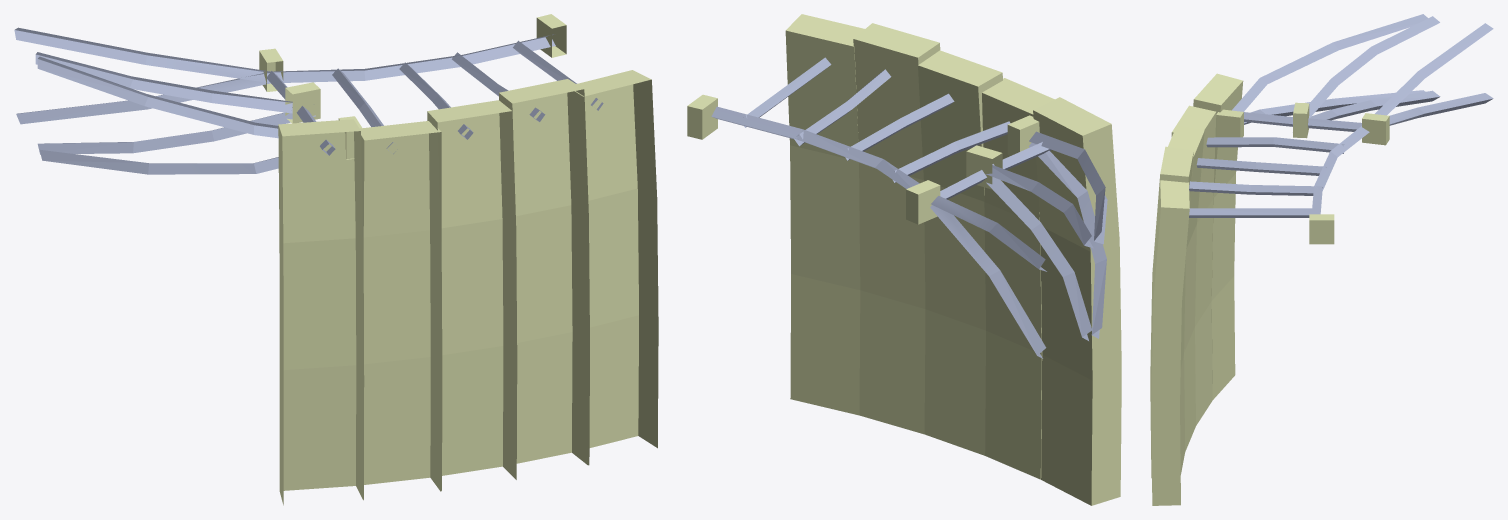
The picture shows the model from 3 angles, left to right: view 1: azimuth 30°, elevation 25°; view 2: azimuth 150°, elevation 25°; view 3: azimuth 270°, elevation 25°; orthographic projection. The views are drawn at different scales.
Parts seen in each view (by area): view 1: Object94; view 2: Object94; view 3: Object94.
Part boxes in pixels (bbox=[...]): Object94: bbox=[14, 14, 658, 505]; Object94: bbox=[687, 14, 1121, 505]; Object94: bbox=[1150, 14, 1493, 505].
Bounding box in the file's own units: 51095 × 40503 × 40480.
